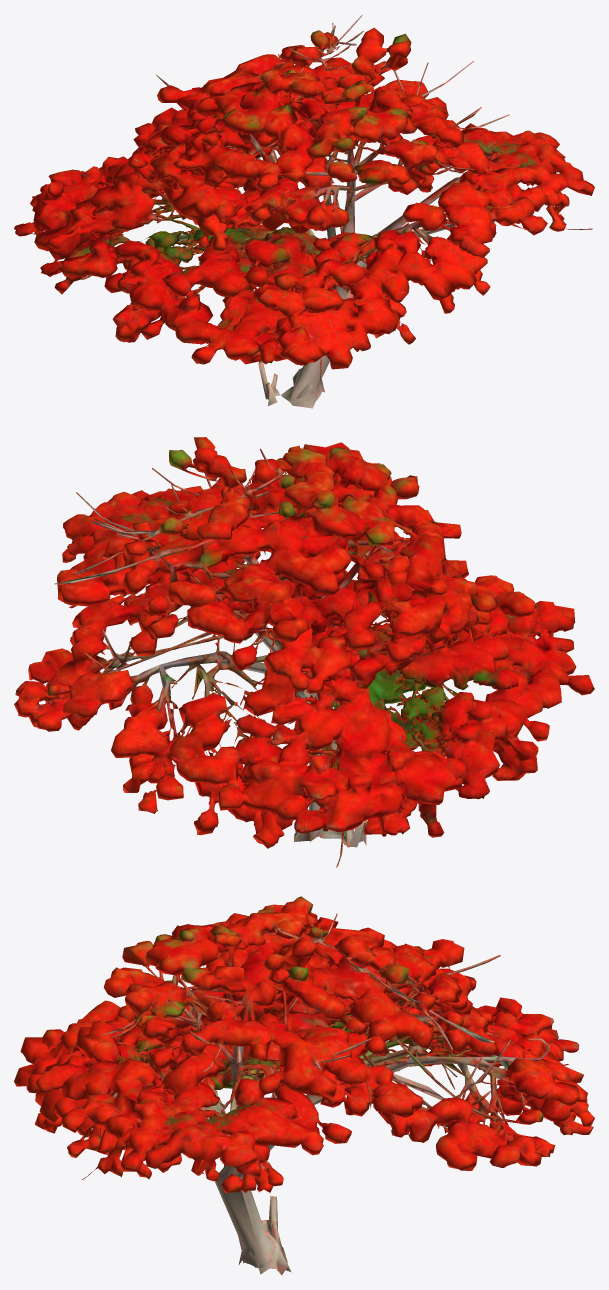
File: phuong_c.glb
3 views of the same model, one above another, from view 1: azimuth 30°, elevation 25°; view 2: azimuth 150°, elevation 25°; view 3: azimuth 270°, elevation 25° (orthographic). The views are drawn at different scales.
Visible parts, largest first — view 1: Mesh_0; view 2: Mesh_0; view 3: Mesh_0.
Boxes of the visible parts, x1,y1,x2,y2 form: Mesh_0: (14,15,594,408); Mesh_0: (14,437,594,867); Mesh_0: (14,896,594,1275).
Size of the model in its own units: 1.86 by 1.34 by 1.88.
1 material, 1 textured.
